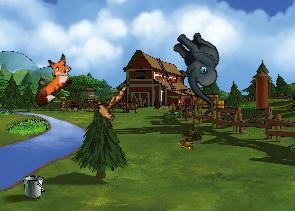eagle: (90, 81, 129, 130)
elephant: (154, 24, 243, 110)
fox: (20, 50, 82, 109)
